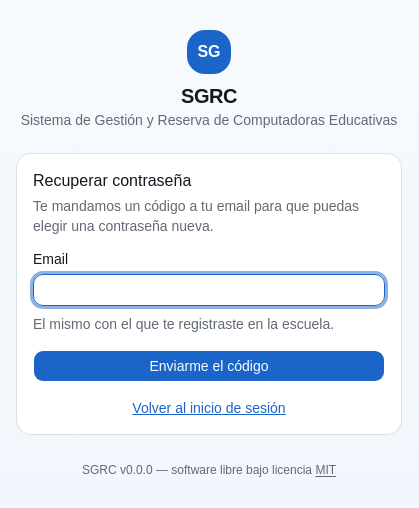
Test case: RecuperarPasswordPage › valida el formato del email antes de pedir nada
In the field labelled "Email": (209, 290) [33,274,385,306], type "no-es-un-email"
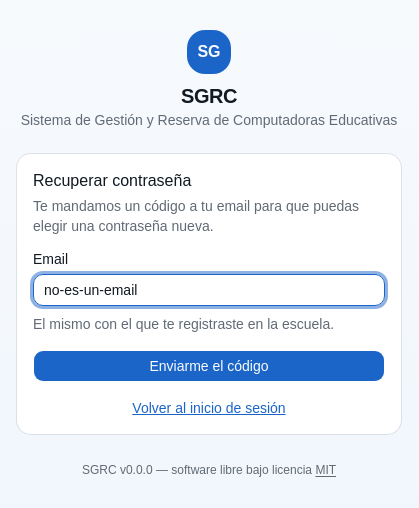
Click the button "Enviarme el código": (209, 366) [33,350,385,382]
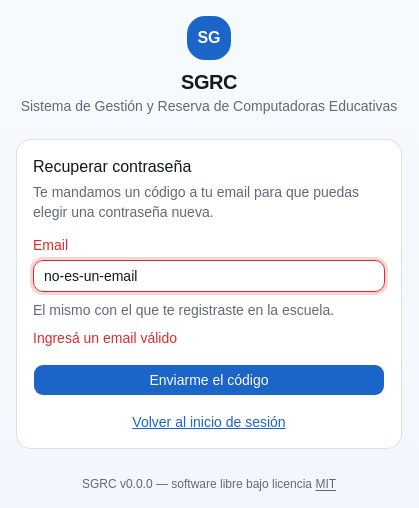
Now the text "Ingresá un email válido" is shown, box [33,330,177,346]
